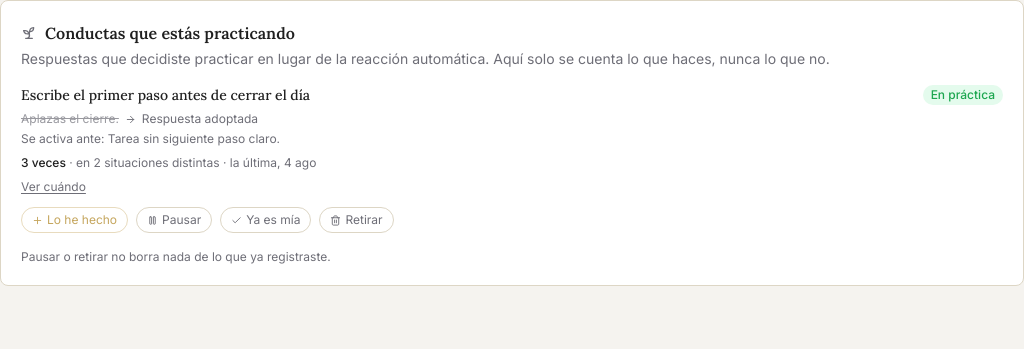
Test case: Behaviours panel — aggregates and timeline (§13.2) › shows the moment and the cause of each application, scoped to its behaviour
Click the button "Ver cuándo". click: point(53, 187)
box: left=21, top=179, right=86, bottom=195
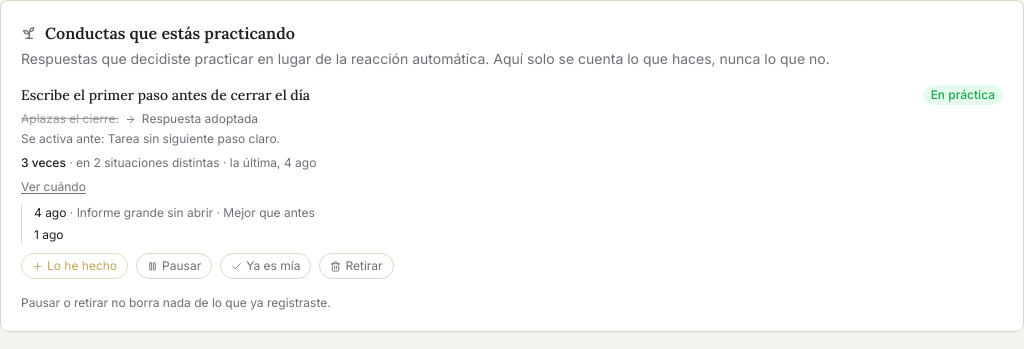
Expected: the list item "4 ago · Informe grande sin abrir · Mejor que antes" is shown, left=34, top=205, right=315, bottom=220
Expected: the number of list items is 2, left=34, top=205, right=315, bottom=220; left=34, top=227, right=64, bottom=242
